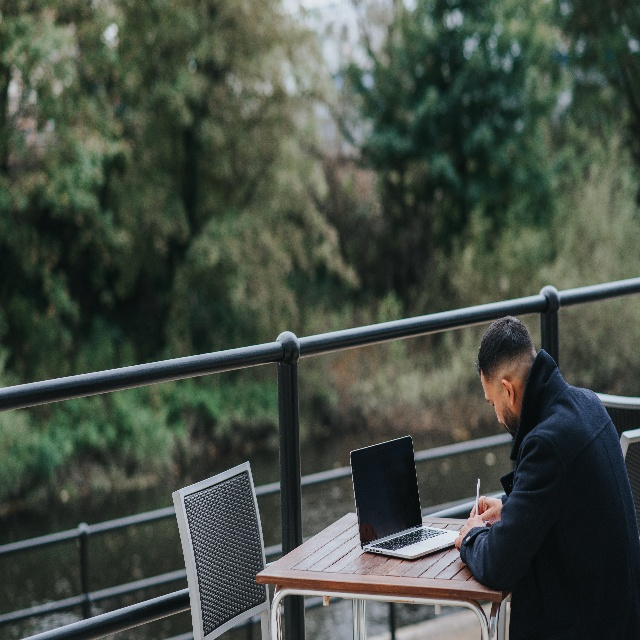Sin_guantes: (454, 514, 484, 558), (471, 492, 501, 521)
